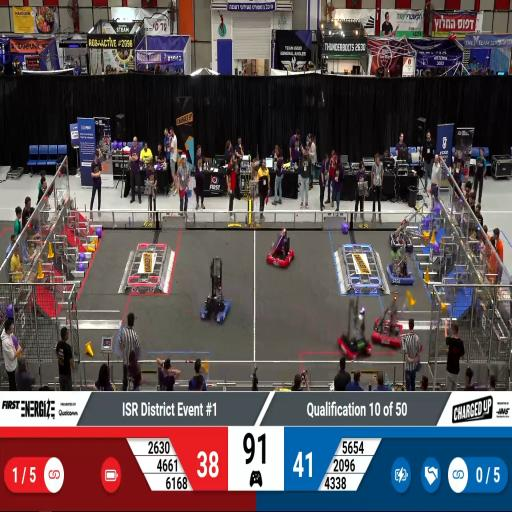robot: (198, 278, 234, 324), (336, 327, 374, 362), (266, 234, 296, 270), (372, 316, 404, 349), (386, 257, 414, 289), (389, 223, 415, 250)
